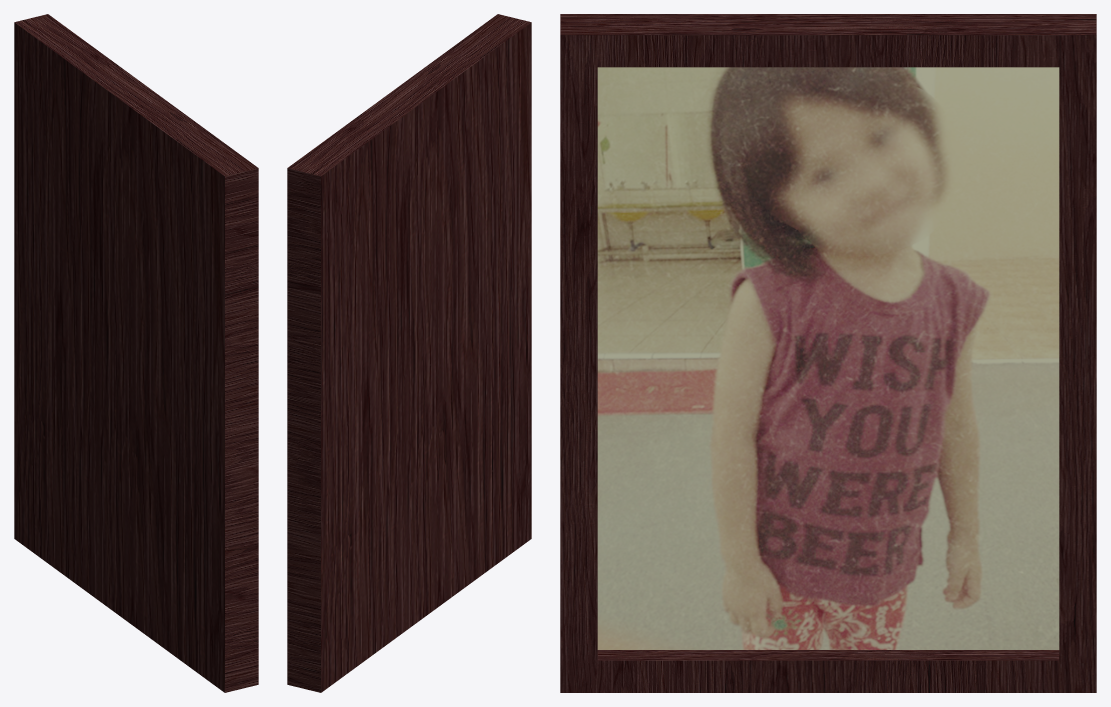
File: frame3_2_emmie head tilt.FBX
3 views of the same model, side by side, from view 1: azimuth 30°, elevation 25°; view 2: azimuth 150°, elevation 25°; view 3: azimuth 270°, elevation 25° (orthographic). The views are drawn at different scales.
Visible parts, largest first — view 1: wall frame006; view 2: wall frame006; view 3: wall frame006.
Boxes of the visible parts, left/top/right/bottom form: wall frame006: left=14, top=14, right=258, bottom=692; wall frame006: left=287, top=14, right=531, bottom=692; wall frame006: left=560, top=14, right=1096, bottom=692.
Size of the model in its own units: 1.03 by 15.02 by 11.1.
1 material, 1 textured.
